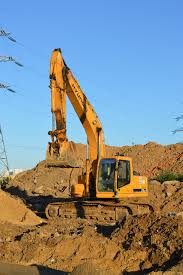excavator: (43, 46, 154, 234)
